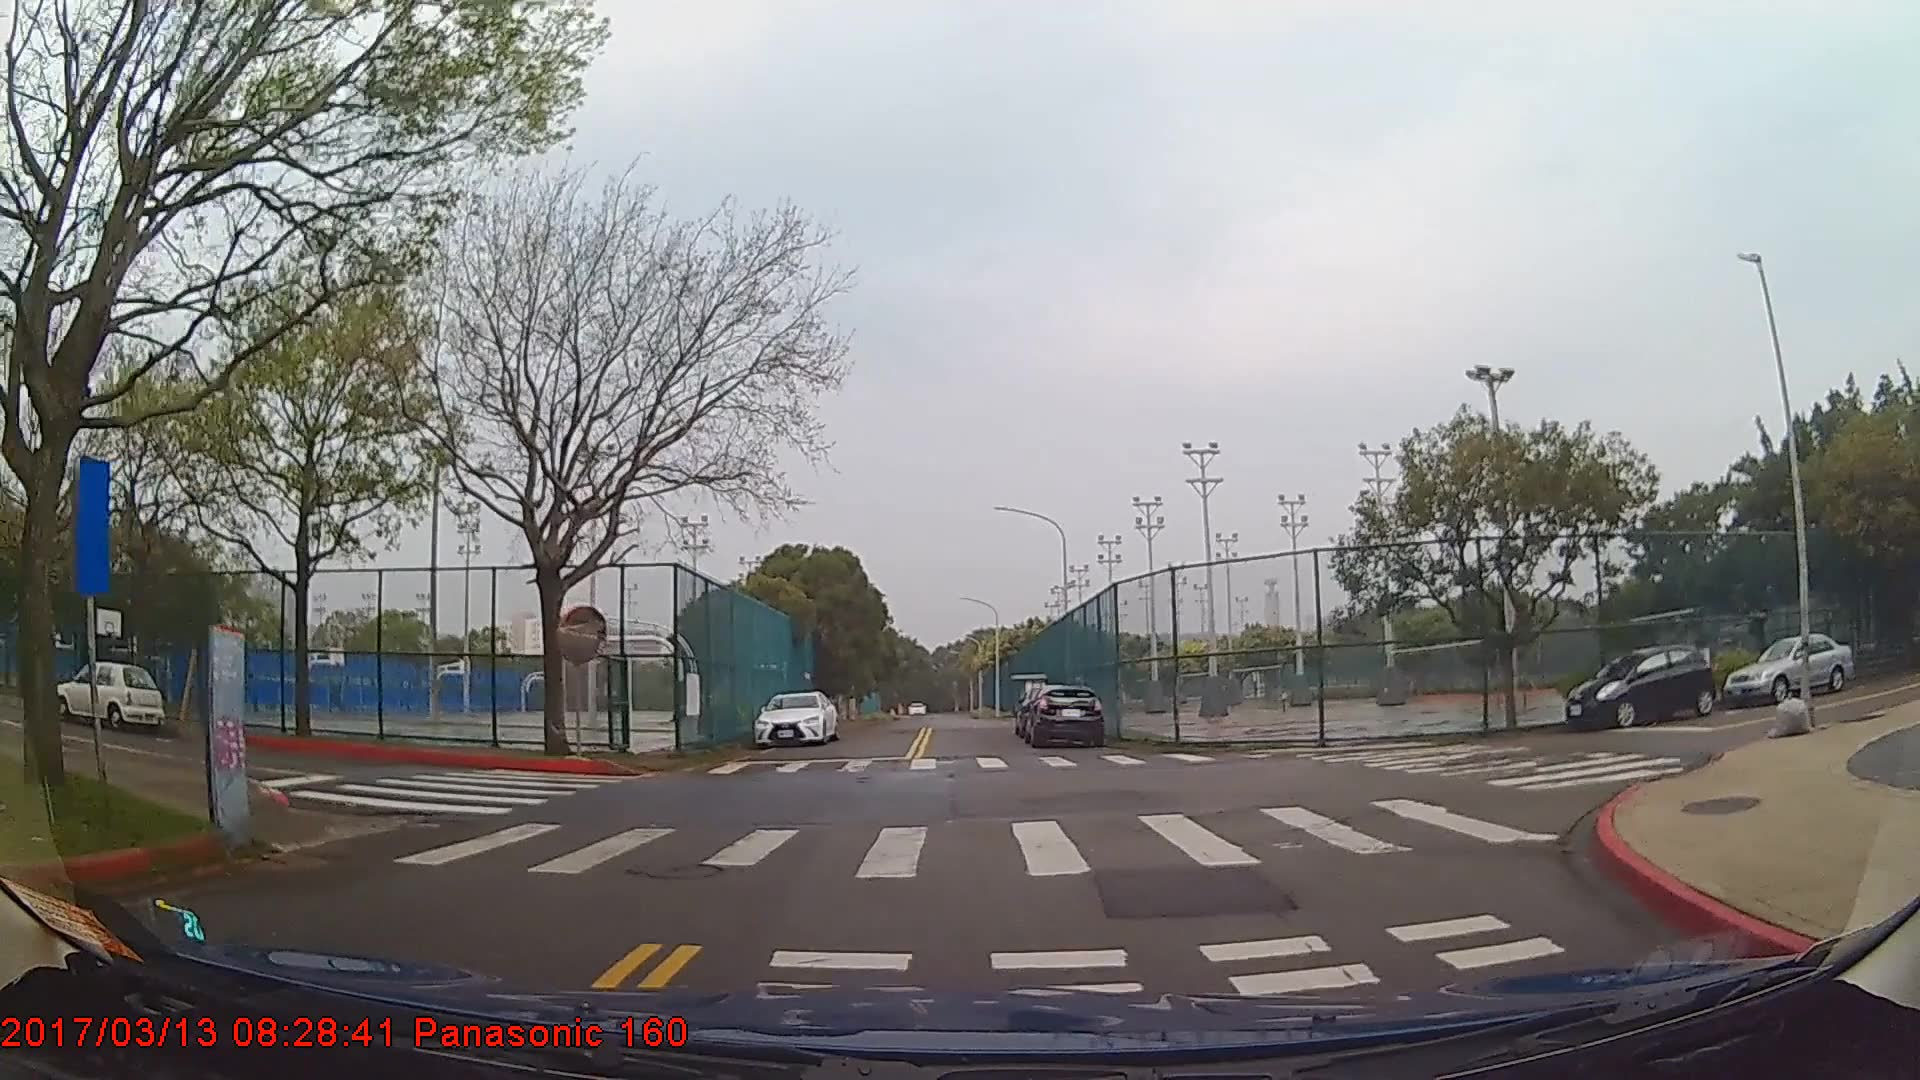vehicle: (1565, 644, 1716, 731), (1722, 634, 1854, 704), (55, 658, 164, 727), (1022, 684, 1102, 749), (753, 688, 837, 746)
